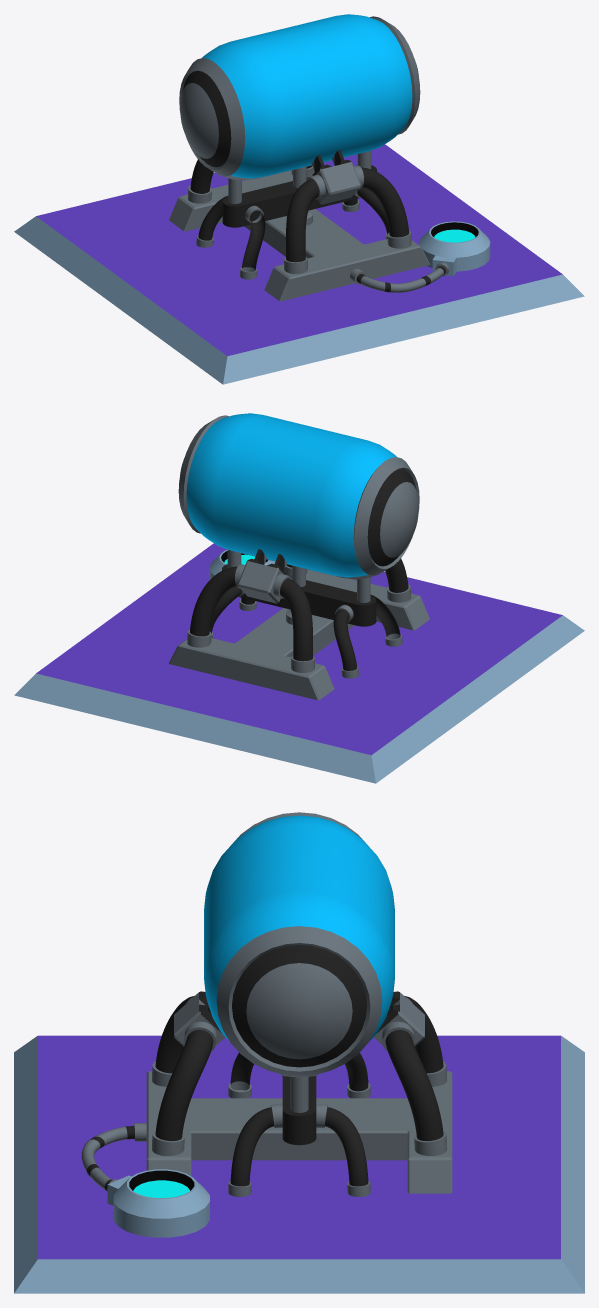
Rendered from Reservoir3.fbx.
3 renders of one model, top to bottom at view 1: azimuth 30°, elevation 25°; view 2: azimuth 150°, elevation 25°; view 3: azimuth 270°, elevation 25°, orthographic. The views are drawn at different scales.
Visible parts, largest first — view 1: foundation_3, polySurface54, installation3, pCylinder86 (×2), alch_beacon2, polySurface55, pCylinder87, pCube167, alch_base3, pCylinder124, pCylinder125, pCylinder127; view 2: foundation_3, polySurface54, installation3, pCylinder87 (×2), polySurface55, pCylinder86, pCube168, pCylinder125, pCylinder124; view 3: foundation_3, polySurface54, installation3, pCylinder86 (×2), pCylinder87 (×2), alch_beacon2, pCylinder126, pCylinder127, polySurface55, alch_base3, pCube167, pCube168 (+4 smaller).
Boxes of the visible parts, box(x1,y1,x2,y2) form: foundation_3: box(14, 144, 584, 384); polySurface54: box(179, 14, 420, 180); installation3: box(169, 170, 429, 301); pCylinder86 (×2): box(187, 159, 411, 248); alch_beacon2: box(419, 221, 490, 276); polySurface55: box(222, 165, 376, 227); pCylinder87: box(284, 174, 325, 273); pCube167: box(311, 150, 361, 204); alch_base3: box(350, 262, 449, 292); pCylinder124: box(240, 205, 265, 279); pCylinder125: box(196, 196, 228, 247); pCylinder127: box(354, 187, 389, 239); foundation_3: box(14, 543, 584, 783); polySurface54: box(178, 413, 419, 579); installation3: box(169, 569, 429, 700); pCylinder87 (×2): box(187, 558, 411, 647); polySurface55: box(222, 564, 376, 626); pCylinder86: box(273, 573, 314, 672); pCube168: box(237, 549, 287, 603); pCylinder125: box(333, 604, 358, 678); pCylinder124: box(370, 595, 402, 646); foundation_3: box(14, 1035, 584, 1293); polySurface54: box(204, 812, 394, 1077); installation3: box(146, 1071, 452, 1193); pCylinder86 (×2): box(151, 996, 446, 1155); pCylinder87 (×2): box(152, 996, 447, 1155); alch_beacon2: box(107, 1169, 209, 1237); pCylinder126: box(316, 1104, 370, 1196); pCylinder127: box(228, 1104, 282, 1196); polySurface55: box(282, 1076, 316, 1145); alch_base3: box(81, 1123, 146, 1192); pCube167: box(174, 991, 225, 1046); pCube168: box(373, 991, 424, 1046).
Size of the model in its own units: 78.63 by 47.95 by 78.63.
